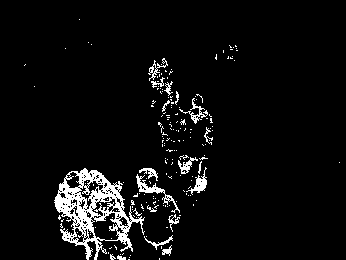person: (131, 166, 181, 260), (57, 166, 94, 260), (183, 94, 217, 196), (92, 185, 131, 258), (162, 88, 185, 185), (151, 55, 174, 112)
